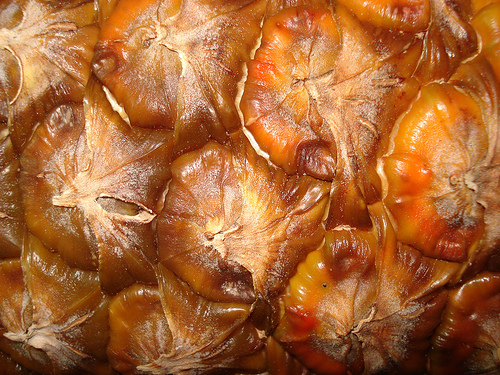pineapple: (1, 1, 499, 374)
